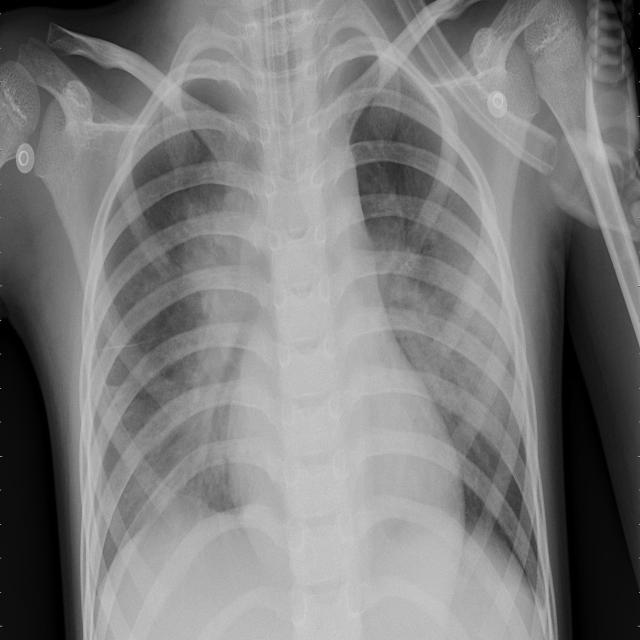high-pneumonia: (176, 132, 272, 467)
low-pneumonia: (383, 226, 467, 450)
